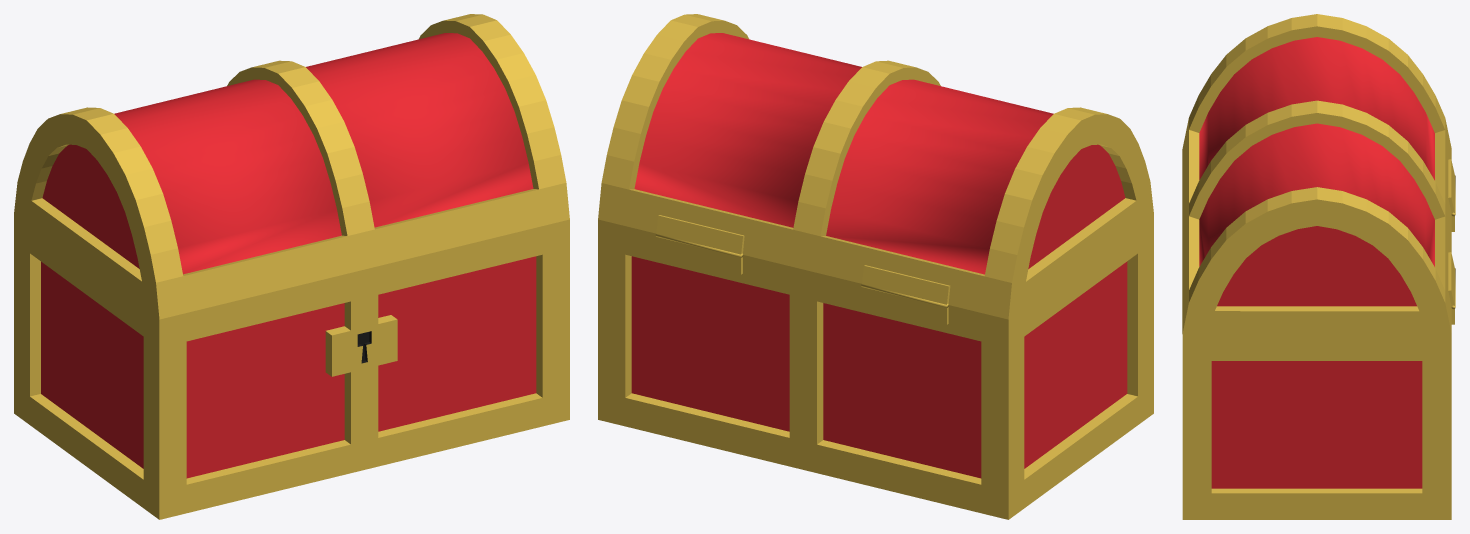
Rendered from RedChestAnimated.fbx.
3 views of the same model, side by side, from view 1: azimuth 30°, elevation 25°; view 2: azimuth 150°, elevation 25°; view 3: azimuth 270°, elevation 25° (orthographic). The views are drawn at different scales.
Parts seen in each view (by area): view 1: Chest Trunk, Chest Lid; view 2: Chest Trunk, Chest Lid, Hinge Bottom; view 3: Chest Lid, Chest Trunk.
Part boxes in pixels (x1,y1,x2,y2): Chest Trunk: [14, 213, 569, 519]; Chest Lid: [14, 14, 569, 319]; Chest Trunk: [598, 213, 1153, 519]; Chest Lid: [598, 14, 1153, 319]; Hinge Bottom: [656, 237, 948, 324]; Chest Lid: [1182, 14, 1454, 334]; Chest Trunk: [1182, 334, 1451, 519].
Bounding box in the file's own units: 75 × 60.47 × 46.68.
